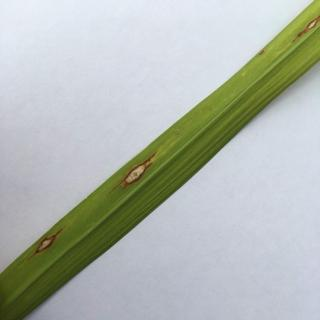Blast: (111, 146, 168, 200), (28, 227, 68, 267), (294, 14, 320, 43)
